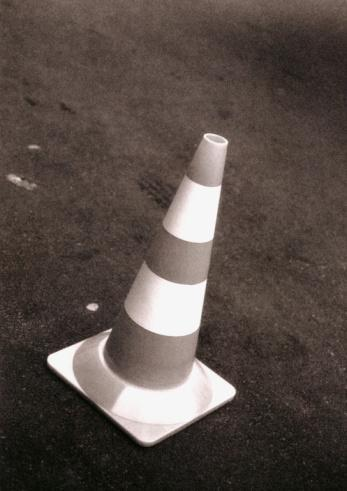Cone: (48, 133, 238, 449)
